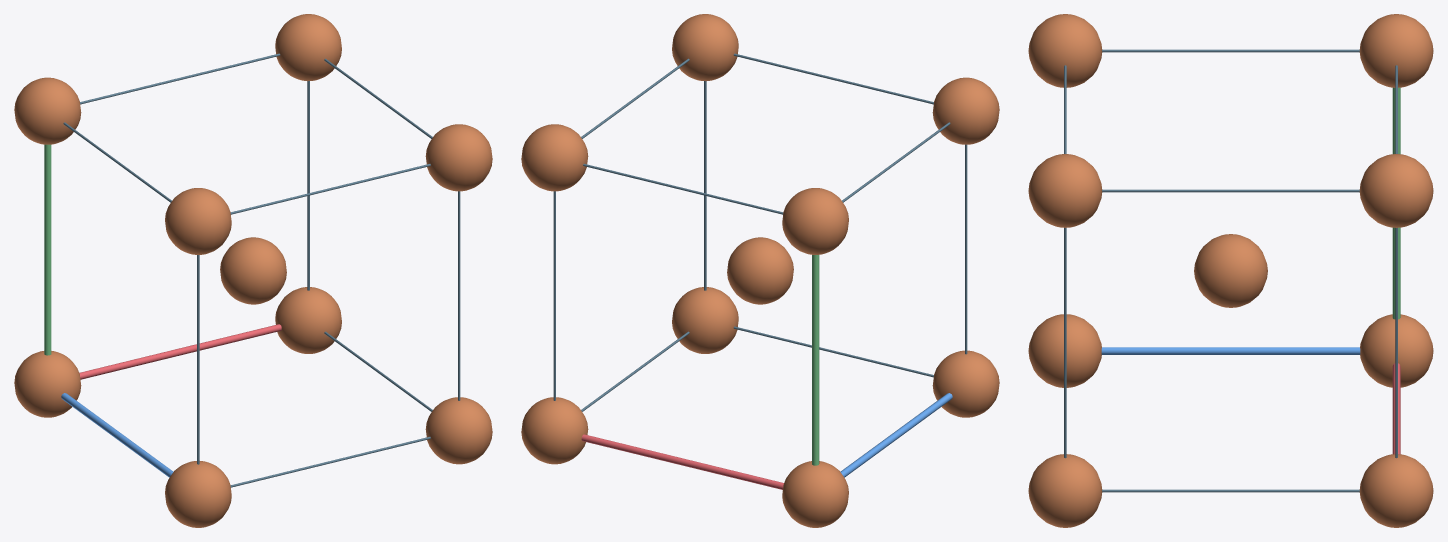
Rendered from nguyen-to-fe.glb.
The picture shows the model from 3 angles, left to right: view 1: azimuth 30°, elevation 25°; view 2: azimuth 150°, elevation 25°; view 3: azimuth 270°, elevation 25°; orthographic projection. The views are drawn at different scales.
Visible parts, largest first — view 1: Fe · Fe · 1 (×9), Ô mạng và các trục a, b, c; view 2: Fe · Fe · 1 (×9), Ô mạng và các trục a, b, c; view 3: Fe · Fe · 1 (×9), Ô mạng và các trục a, b, c.
Boxes of the visible parts, x1=… form: Fe · Fe · 1 (×9): x1=14, y1=14, x2=492, y2=527; Ô mạng và các trục a, b, c: x1=44, y1=53, x2=460, y2=487; Fe · Fe · 1 (×9): x1=521, y1=14, x2=999, y2=527; Ô mạng và các trục a, b, c: x1=553, y1=53, x2=967, y2=489; Fe · Fe · 1 (×9): x1=1028, y1=14, x2=1433, y2=527; Ô mạng và các trục a, b, c: x1=1064, y1=49, x2=1400, y2=492.
Bounding box in the file's own units: 3.51 × 3.51 × 3.51.
